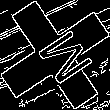M_SW: (21, 22, 89, 88)
